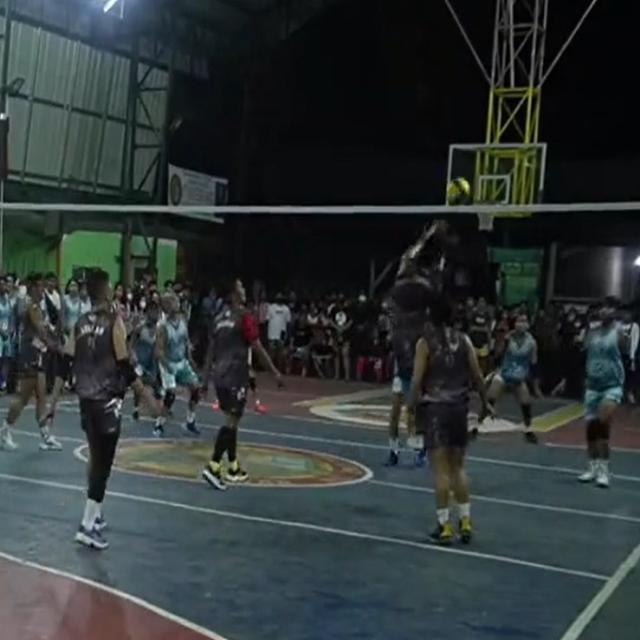volleyball: (445, 180, 471, 200)
